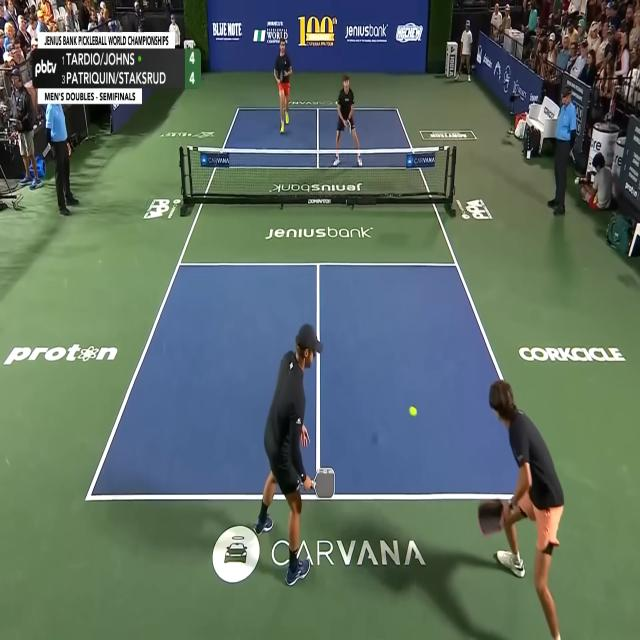ball: (408, 405, 418, 418)
